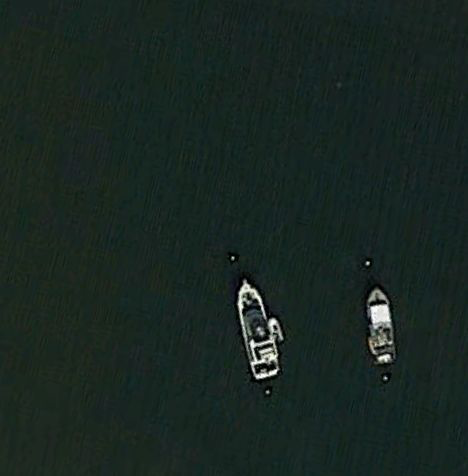boat: (234, 278, 281, 381), (364, 284, 399, 369)
